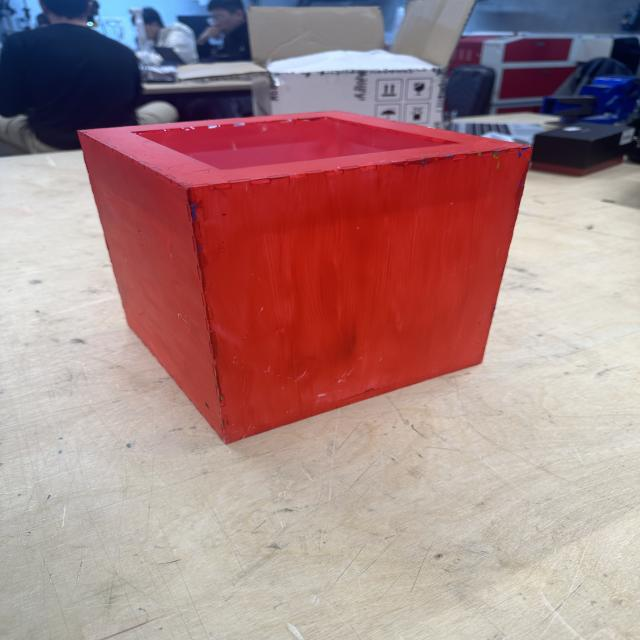red_bin: (75, 109, 536, 446)
